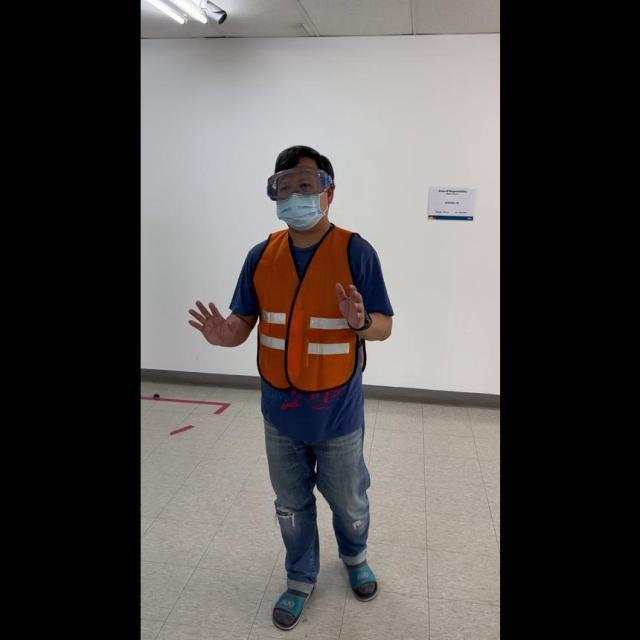bare_hand: (185, 293, 234, 347), (331, 275, 368, 333)
